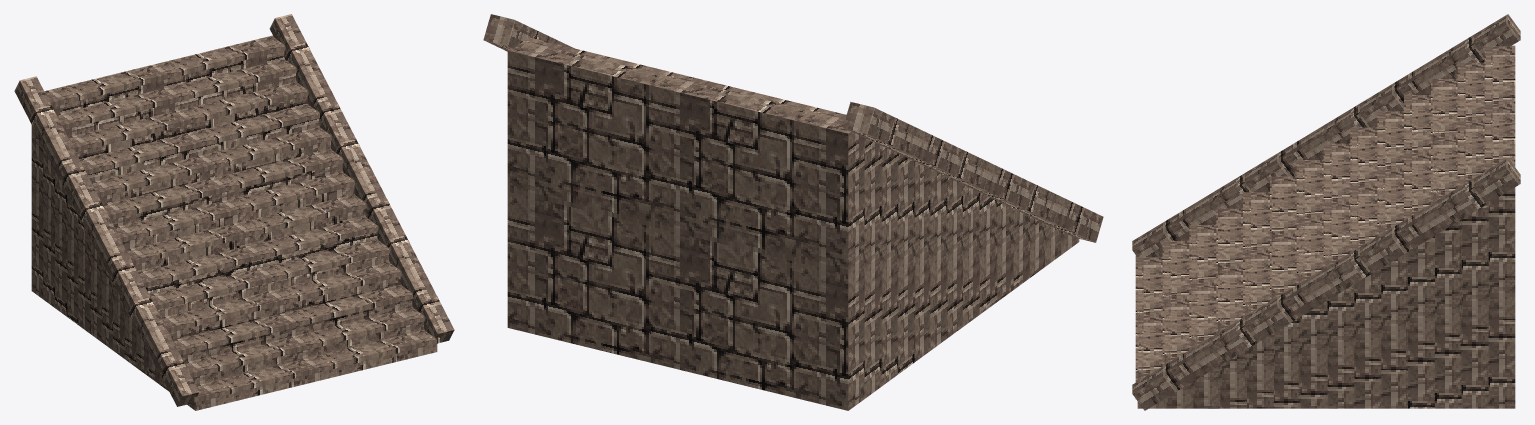
The model's file is stairs.glb.
The picture shows the model from 3 angles, left to right: view 1: azimuth 30°, elevation 25°; view 2: azimuth 150°, elevation 25°; view 3: azimuth 270°, elevation 25°; orthographic projection. The views are drawn at different scales.
Visible parts, largest first — view 1: stairs_p9_stone, stairs_p9_paving; view 2: stairs_p9_stone, stairs_p9_paving; view 3: stairs_p9_stone, stairs_p9_paving.
Boxes of the visible parts, bbox=[...] form: stairs_p9_stone: bbox=[14, 14, 454, 410]; stairs_p9_paving: bbox=[49, 43, 439, 402]; stairs_p9_stone: bbox=[483, 14, 1103, 410]; stairs_p9_paving: bbox=[524, 37, 846, 118]; stairs_p9_stone: bbox=[1132, 14, 1520, 410]; stairs_p9_paving: bbox=[1135, 46, 1492, 382].
Size of the model in its own units: 4.05 by 3.08 by 4.34.
2 materials, 2 textured.
